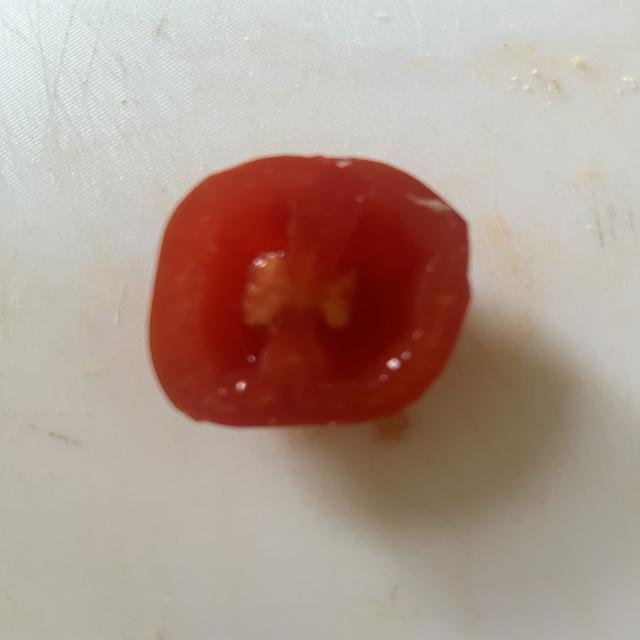sliced_tomato: (150, 156, 469, 426)
